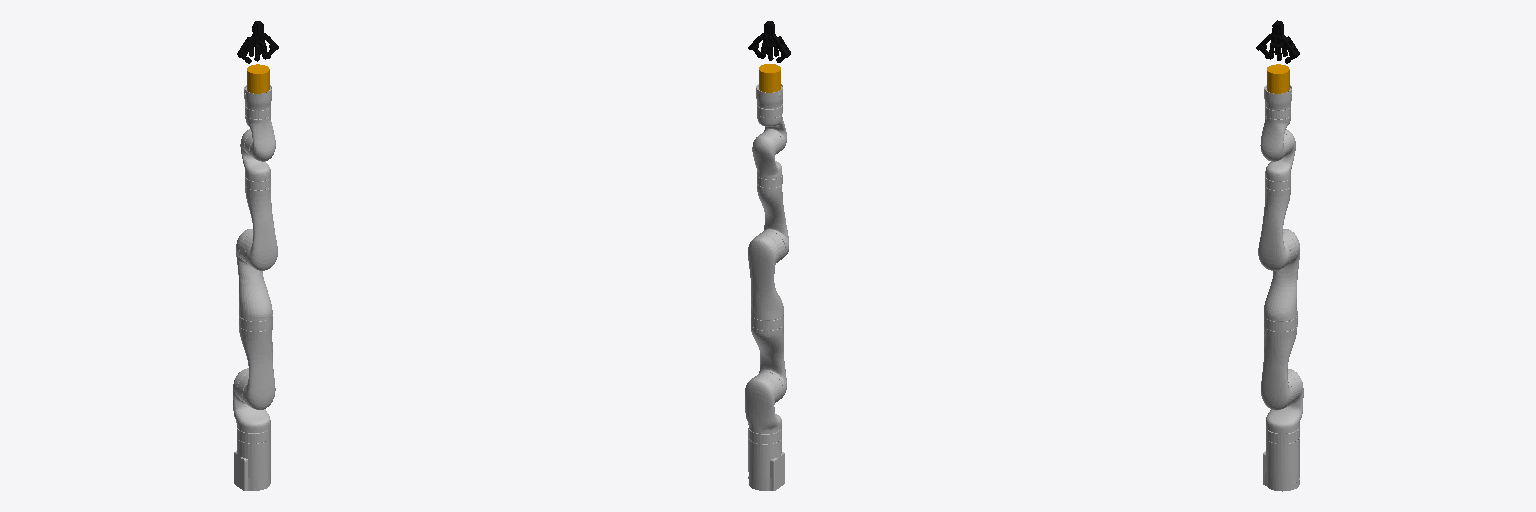
The robot description file, URDF, robot "kinova":
<?xml version='1.0' encoding='utf-8'?>
<robot name="kinova" version="1.0">
  <link name="link0">
    <inertial>
      <origin xyz="-0.000648 -0.000166 0.084487" rpy="0 0 0" />
      <mass value="1.697" />
      <inertia ixx="0.004622" ixy="0.000009" ixz="0.000060" iyy="0.004495" iyz="0.000009" izz="0.002079" />
    </inertial>
    <visual>
      <origin xyz="0 0 0" rpy="0 0 0" />
      <geometry>
        <mesh filename="../../../urdf_models/mmp_panda/meshes/base_link.obj" />
      </geometry>
      <material name="">
        <color rgba="0.75294 0.75294 0.75294 1" />
      </material>
    </visual>
    <!-- <collision>
      <origin xyz="0 0 0" rpy="0 0 0" />
      <geometry>
        <mesh filename="../../../urdf_models/mmp_panda/meshes/base_link.obj" />
      </geometry>
    </collision> -->
  </link>

  <link name="link1">
    <inertial>
      <origin xyz="-0.000023 -0.010364 -0.073360" rpy="0 0 0" />
      <mass value="1.377" />
      <inertia ixx="0.004570" ixy="0.000001" ixz="0.000002" iyy="0.004831" iyz="0.000448" izz="0.001409" />
    </inertial>
    <visual>
      <origin xyz="0 0 0" rpy="0 0 0" />
      <geometry>
        <mesh filename="../../../urdf_models/mmp_panda/meshes/Shoulder_Link.obj" />
      </geometry>
      <material name="">
        <color rgba="0.75294 0.75294 0.75294 1" />
      </material>
    </visual>
    <!-- <collision>
      <origin xyz="0 0 0" rpy="0 0 0" />
      <geometry>
        <mesh filename="../../../urdf_models/mmp_panda/meshes/Shoulder_Link.obj" />
      </geometry>
    </collision> -->
  </link>

  <link name="link2">
    <inertial>
      <origin xyz="-0.000044 -0.099580 -0.013278" rpy="0 0 0" />
      <mass value="1.1636" />
      <inertia ixx="0.011088" ixy="0.000005" ixz="0.0" iyy="0.001072" iyz="-0.000691" izz="0.011255" />
    </inertial>
    <visual>
      <origin xyz="0 0 0" rpy="0 0 0" />
      <geometry>
        <mesh filename="../../../urdf_models/mmp_panda/meshes/HalfArm1_Link.obj" />
      </geometry>
      <material name="">
        <color rgba="0.75294 0.75294 0.75294 1" />
      </material>
    </visual>
    <!-- <collision>
      <origin xyz="0 0 0" rpy="0 0 0" />
      <geometry>
        <mesh filename="../../../urdf_models/mmp_panda/meshes/HalfArm1_Link.obj" />
      </geometry>
    </collision> -->
  </link>

  <link name="link3">
    <inertial>
      <origin xyz="-0.000044 -0.006641 -0.117892" rpy="0 0 0" />
      <mass value="1.1636" />
      <inertia ixx="0.010932" ixy="0.0" ixz="-0.000007" iyy="0.011127" iyz="0.000606" izz="0.001043" />
    </inertial>
    <visual>
      <origin xyz="0 0 0" rpy="0 0 0" />
      <geometry>
        <mesh filename="../../../urdf_models/mmp_panda/meshes/HalfArm2_Link.obj" />
      </geometry>
      <material name="">
        <color rgba="0.75294 0.75294 0.75294 1" />
      </material>
    </visual>
    <!-- <collision>
      <origin xyz="0 0 0" rpy="0 0 0" />
      <geometry>
        <mesh filename="../../../urdf_models/mmp_panda/meshes/HalfArm2_Link.obj" />
      </geometry>
    </collision> -->
  </link>

  <link name="link4">
    <inertial>
      <origin xyz="-0.000018 -0.075478 -0.015006" rpy="0 0 0" />
      <mass value="0.93" />
      <inertia ixx="0.008147" ixy="-0.000001" ixz="0.0" iyy="0.000631" iyz="-0.000500" izz="0.008316" />
    </inertial>
    <visual>
      <origin xyz="0 0 0" rpy="0 0 0" />
      <geometry>
        <mesh filename="../../../urdf_models/mmp_panda/meshes/ForeArm_Link.obj" />
      </geometry>
      <material name="">
        <color rgba="0.75294 0.75294 0.75294 1" />
      </material>
    </visual>
    <collision>
      <origin xyz="0 0 0" rpy="0 0 0" />
      <geometry>
        <mesh filename="../../../urdf_models/mmp_panda/meshes/ForeArm_Link.obj" />
      </geometry>
    </collision>
  </link>

  <link name="link5">
    <inertial>
      <origin xyz="0.000001 -0.009432 -0.063883" rpy="0 0 0" />
      <mass value="0.678" />
      <inertia ixx="0.001596" ixy="0.0" ixz="0.0" iyy="0.001607" iyz="0.000256" izz="0.000399" />
    </inertial>
    <visual>
      <origin xyz="0 0 0" rpy="0 0 0" />
      <geometry>
        <mesh filename="../../../urdf_models/mmp_panda/meshes/SphericalWrist1_Link.obj" />
      </geometry>
      <material name="">
        <color rgba="0.75294 0.75294 0.75294 1" />
      </material>
    </visual>
    <collision>
      <origin xyz="0 0 0" rpy="0 0 0" />
      <geometry>
        <mesh filename="../../../urdf_models/mmp_panda/meshes/SphericalWrist1_Link.obj" />
      </geometry>
    </collision>
  </link>

  <link name="link6">
    <inertial>
      <origin xyz="0.000001 -0.045483 -0.009650" rpy="0 0 0" />
      <mass value="0.678" />
      <inertia ixx="0.001641" ixy="0.0" ixz="0.0" iyy="0.000410" iyz="-0.000278" izz="0.001641" />
    </inertial>
    <visual>
      <origin xyz="0 0 0" rpy="0 0 0" />
      <geometry>
        <mesh filename="../../../urdf_models/mmp_panda/meshes/SphericalWrist2_Link.obj" />
      </geometry>
      <material name="">
        <color rgba="0.75294 0.75294 0.75294 1" />
      </material>
    </visual>
    <collision>
      <origin xyz="0 0 0" rpy="0 0 0" />
      <geometry>
        <mesh filename="../../../urdf_models/mmp_panda/meshes/SphericalWrist2_Link.obj" />
      </geometry>
    </collision>
  </link>

  <link name="link7">
    <inertial>
      <origin xyz="-0.000093 0.000132 -0.022905" rpy="0 0 0" />
      <mass value="0.33" />
      <!-- <mass value="0.364" original mass /> -->
      <inertia ixx="0.000214" ixy="0.0" ixz="0.000001" iyy="0.000223" iyz="-0.000002" izz="0.000240" />
    </inertial>
    <visual>
      <origin xyz="0 0 0" rpy="0 0 0" />
      <geometry>
        <mesh filename="../../../urdf_models/mmp_panda/meshes/bracelet_no_vision_link.obj" />
      </geometry>
      <material name="">
        <color rgba="0.75294 0.75294 0.75294 1" />
      </material>
    </visual>
    <collision>
      <origin xyz="0 0 0" rpy="0 0 0" />
      <geometry>
        <mesh filename="../../../urdf_models/mmp_panda/meshes/bracelet_no_vision_link.obj" />
      </geometry>
    </collision>
  </link>

  <link name="end-effector">
    <inertial>
      <origin xyz="0 0 -0.005" rpy="0 0 0" />
      <mass value="0.386" />
      <inertia ixx="0" iyy="0.000202" izz="0.000179" ixy="0" ixz="0" iyz="0" />
    </inertial>
    <visual>
      <origin xyz="0 0 0" rpy="0 0 0" />
      <geometry>
        <cylinder radius="0.031" length="0.059" />
      </geometry>
    </visual>
    <!-- <collision>
    <geometry>
        <cylinder radius="0.031" length="0.059" />
      </geometry>
    </collision> -->
  </link>
  
  <!-- links below for gripper -->
  <link
    name="robotiq_85_base_link">
    <inertial>
      <origin
        xyz="0.00021987 -2.3546E-10 0.030163" rpy="0 0 0" />
      <mass value="0.30915" />
      <inertia ixx="0.00028972" ixy="-5.7879E-10" ixz="-1.8543E-06" iyy="0.00030737" iyz="1.682E-12" izz="0.00019914" />
    </inertial>
    <visual>
      <origin
        xyz="0 0 0" rpy="0 0 0" />
      <geometry>
        <mesh filename="../../../urdf_models/mmp_panda/meshes/robotiq_85_base_link_fine.obj" />
      </geometry>
      <material name="">
        <color rgba="0.1 0.1 0.1 1" />
      </material>
    </visual>
    <!-- <collision>
      <origin
        xyz="0 0 0" rpy="0 0 0" />
      <geometry>
        <mesh filename="../../../urdf_models/mmp_panda/meshes/robotiq_85_base_link_coarse.obj" />
      </geometry>
    </collision> -->
  </link>

  <link
    name="left_outer_knuckle">
    <inertial>
      <origin xyz="0.0178331863169983 3.68915177224286E-11 0.0021442477325704" rpy="0 0 0" />
      <mass value="0.00684838849434396" />
      <inertia ixx="2.66832029033166E-07" ixy="1.66142314639824E-15" ixz="1.45945633322873E-07" iyy="1.3889233257419E-06" iyz="2.82951161241588E-15" izz="1.26603336914415E-06" />
    </inertial>
    <visual>
      <origin xyz="0 0 0" rpy="0 0 0" />
      <geometry>
        <mesh
          filename="../../../urdf_models/mmp_panda/meshes/outer_knuckle_fine.obj" />
      </geometry>
      <material name="">
        <color rgba="0.1 0.1 0.1 1" />
      </material>
    </visual>
    <!-- <collision>
      <origin xyz="0 0 0" rpy="0 0 0" />
      <geometry>
        <mesh
          filename="../../../urdf_models/mmp_panda/meshes/outer_knuckle_coarse.obj" />
      </geometry>
    </collision> -->
  </link>

  <link
    name="left_outer_finger">
    <inertial>
      <origin xyz="0.00131451599174296 2.88942057994543E-15 0.0215404163180413" rpy="0 0 0" />
      <mass value="0.0273093985570947" />
      <inertia ixx="8.51629628283022E-06" ixy="2.58174336207405E-19" ixz="3.83829504344079E-07" iyy="6.9133328065108E-06" iyz="-7.58589926143789E-19" izz="2.25006832221981E-06" />
    </inertial>
    <visual>
      <origin xyz="0 0 0" rpy="0 0 0" />
      <geometry>
        <mesh filename="../../../urdf_models/mmp_panda/meshes/outer_finger_fine.obj" />
      </geometry>
      <material name="">
        <color rgba="0.1 0.1 0.1 1" />
      </material>
    </visual>
    <!-- <collision>
      <origin xyz="0 0 0" rpy="0 0 0" />
      <geometry>
        <mesh filename="../../../urdf_models/mmp_panda/meshes/outer_finger_coarse.obj" />
      </geometry>
    </collision> -->
  </link>

  <link
    name="left_inner_knuckle">
    <inertial>
      <origin xyz="0.017097546626628 -3.93808524389535E-10 0.0224918438201868" rpy="0 0 0" />
      <mass value="0.0110930853895903" />
      <inertia ixx="4.23392770691541E-06" ixy="5.748978936968E-15" ixz="1.78855677119788E-06" iyy="3.96548790524392E-06" iyz="1.05464666369669E-14" izz="3.24068002883007E-06" />
    </inertial>
    <visual>
      <origin xyz="0 0 0" rpy="0 0 0" />
      <geometry>
        <mesh filename="../../../urdf_models/mmp_panda/meshes/inner_knuckle_fine.obj" />
      </geometry>
      <material name="">
        <color rgba="0.1 0.1 0.1 1" />
      </material>
    </visual>
    <!-- <collision>
      <origin xyz="0 0 0" rpy="0 0 0" />
      <geometry>
        <mesh filename="../../../urdf_models/mmp_panda/meshes/inner_knuckle_coarse.obj" />
      </geometry>
    </collision> -->
  </link>

  <link name="left_inner_finger">
    <inertial>
      <origin xyz="0.0060275613594574 -6.29183141465421E-15 0.00669925693133241" rpy="0 0 0" />
      <mass value="0.00724255346165745" />
      <inertia ixx="1.47824274053603E-06" ixy="-3.94884463570303E-19" ixz="-3.45268847648622E-07" iyy="1.70064480838395E-06" iyz="3.5059838910097E-19" izz="4.77151336838364E-07" />
    </inertial>
    <visual>
      <origin xyz="0 0 0" rpy="0 0 0" />
      <geometry>
        <mesh filename="../../../urdf_models/mmp_panda/meshes/inner_finger_fine.obj" />
      </geometry>
      <material name="">
        <color rgba="0.1 0.1 0.1 1" />
      </material>
    </visual>
    <collision>
      <origin xyz="0 0 0" rpy="0 0 0" />
      <geometry>
        <mesh filename="../../../urdf_models/mmp_panda/meshes/inner_finger_coarse.obj" />
      </geometry>
    </collision>
  </link>

  <link
    name="right_inner_knuckle">
    <inertial>
      <origin xyz="0.0168606186773776 3.93808471820465E-10 0.0226699950793434" rpy="0 0 0" />
      <mass value="0.0110930853895903" />
      <inertia ixx="4.27134775939882E-06" ixy="-8.53568456728898E-15" ixz="1.77774229944246E-06" iyy="3.96548790524392E-06" iyz="-8.45108024914164E-15" izz="3.20325997634666E-06" />
    </inertial>
    <visual>
      <origin xyz="0 0 0" rpy="0 0 0" />
      <geometry>
        <mesh filename="../../../urdf_models/mmp_panda/meshes/inner_knuckle_fine.obj" />
      </geometry>
      <material name="">
        <color rgba="0.1 0.1 0.1 1" />
      </material>
    </visual>
    <!-- <collision>
      <origin xyz="0 0 0" rpy="0 0 0" />
      <geometry>
        <mesh filename="../../../urdf_models/mmp_panda/meshes/inner_knuckle_coarse.obj" />
      </geometry>
    </collision> -->
  </link>

  <link name="right_inner_finger">
    <inertial>
      <origin xyz="0.00602756228812038 -6.47284509480176E-15 0.00669925609578108" rpy="0 0 0" />
      <mass value="0.00724255346165744" />
      <inertia ixx="1.47824283625957E-06" ixy="-3.95952064019123E-19" ixz="-3.45268708875543E-07" iyy="1.70064480838394E-06" iyz="3.55286507960029E-19" izz="4.77151241114822E-07" />
    </inertial>
    <visual>
      <origin xyz="0 0 0" rpy="0 0 0" />
      <geometry>
        <mesh filename="../../../urdf_models/mmp_panda/meshes/inner_finger_fine.obj" />
      </geometry>
      <material name="">
        <color rgba="0.1 0.1 0.1 1" />
      </material>
    </visual>
    <collision>
      <origin xyz="0 0 0" rpy="0 0 0" />
      <geometry>
        <mesh filename="../../../urdf_models/mmp_panda/meshes/inner_finger_coarse.obj" />
      </geometry>
    </collision>
  </link>

  <link name="right_outer_knuckle">
    <inertial>
      <origin xyz="0.0178097074051638 3.60493211424024E-11 0.00233123458346721" rpy="0 0 0" />
      <mass value="0.00684838849401352" />
      <inertia ixx="2.70004361573169E-07" ixy="1.59579467624491E-15" ixz="1.56396493788199E-07" iyy="1.38892332558312E-06" iyz="2.82357800318817E-15" izz="1.26286103637978E-06" />
    </inertial>
    <visual>
      <origin xyz="0 0 0" rpy="0 0 0" />
      <geometry>
        <mesh filename="../../../urdf_models/mmp_panda/meshes/outer_knuckle_fine.obj" />
      </geometry>
      <material name="">
        <color rgba="0.1 0.1 0.1 1" />
      </material>
    </visual>
    <!-- <collision>
      <origin xyz="0 0 0" rpy="0 0 0" />
      <geometry>
        <mesh filename="../../../urdf_models/mmp_panda/meshes/outer_knuckle_coarse.obj" />
      </geometry>
    </collision> -->
  </link>

  <link name="right_outer_finger">
    <inertial>
      <origin xyz="0.00108844269639009 -2.611488350845E-15 0.0215530225245502" rpy="0 0 0" />
      <mass value="0.0273093985570947" />
      <inertia ixx="8.52366028592721E-06" ixy="3.41683380899422E-19" ixz="3.18003675694284E-07" iyy="6.91333280651081E-06" iyz="7.37726682706417E-19" izz="2.24270431912283E-06" />
    </inertial>
    <visual>
      <origin xyz="0 0 0" rpy="0 0 0" />
      <geometry>
        <mesh filename="../../../urdf_models/mmp_panda/meshes/outer_finger_fine.obj" />
      </geometry>
      <material name="">
        <color rgba="0.1 0.1 0.1 1" />
      </material>
    </visual>
    <!-- <collision>
      <origin xyz="0 0 0" rpy="0 0 0" />
      <geometry>
        <mesh filename="../../../urdf_models/mmp_panda/meshes/outer_finger_coarse.obj" />
      </geometry>
    </collision> -->
  </link>

  <joint name="Actuator1" type="revolute">
    <origin xyz="0 0 0.15643" rpy="3.1416 2.7629E-18 -4.9305E-36" />
    <parent link="link0" />
    <child link="link1" />
    <axis xyz="0 0 1" />
    <limit effort="39" lower="-20.8973" upper="20.8973" velocity="0.8727" />
  </joint>
  <joint name="Actuator2" type="revolute">
    <origin xyz="0 0.005375 -0.12838" rpy="1.5708 2.1343E-17 -1.1102E-16" />
    <parent link="link1" />
    <child link="link2" />
    <axis xyz="0 0 1" />
    <limit effort="39" lower="-2.41" upper="2.41" velocity="0.8727" />
  </joint>
  <joint name="Actuator3" type="revolute">
    <origin xyz="0 -0.21038 -0.006375" rpy="-1.5708 1.2326E-32 -2.9122E-16" />
    <parent link="link2" />
    <child link="link3" />
    <axis xyz="0 0 1" />
    <limit effort="39" lower="-20.8973" upper="20.8973" velocity="0.8727" />
  </joint>
  <joint name="Actuator4" type="revolute">
    <origin xyz="0 0.006375 -0.21038" rpy="1.5708 -6.6954E-17 -1.6653E-16" />
    <parent link="link3" />
    <child link="link4" />
    <axis xyz="0 0 1" />
    <limit lower="-2.66" upper="2.66" effort="39" velocity="0.8727" />
  </joint>
  <joint name="Actuator5" type="revolute">
    <origin xyz="0 -0.20843 -0.006375" rpy="-1.5708 2.2204E-16 -6.373E-17" />
    <parent link="link4" />
    <child link="link5" />
    <axis xyz="0 0 1" />
    <limit effort="9" lower="-20.8973" upper="20.8973" velocity="0.8727" />
  </joint>
  <joint name="Actuator6" type="revolute">
    <origin xyz="0 0.00017505 -0.10593" rpy="1.5708 9.2076E-28 -8.2157E-15" />
    <parent link="link5" />
    <child link="link6" />
    <axis xyz="0 0 1" />
    <limit lower="-2.23" upper="2.23" effort="9" velocity="0.8727" />
  </joint>
  <joint name="Actuator7" type="revolute">
    <origin xyz="0 -0.10593 -0.00017505" rpy="-1.5708 -5.5511E-17 9.6396E-17" />
    <parent link="link6" />
    <child link="link7" />
    <axis xyz="0 0 1" />
    <limit effort="9" lower="-20.8973" upper="20.8973" velocity="0.8727" />
  </joint>
  <joint name="joint_ee" type="fixed">
    <origin xyz="0 0 -0.091" />
    <parent link="link7" />
    <child link="end-effector" />
  </joint>
  <joint name="force_sensor_end" type="fixed">
    <origin xyz="0 0 0" rpy="-1.5708 0 0"/>
    <parent link="end-effector"/>
    <child link="robotiq_85_base_link"/>
  </joint>
  <!--joints below for gripper-->
  <!--joints below for gripper set to fixed for now-->
  <joint name="left_outer_knuckle_joint" type="fixed" >
    <origin xyz="0.0306011444260539 0.0627920162695395 0 " rpy="0 0 0.733" />
    <parent link="robotiq_85_base_link" />
    <child link="left_outer_knuckle" />
    <axis xyz="0 0 1" />
    <!-- <limit lower="0" upper="0.725" velocity="2.0" effort="1000" /> -->
  </joint>
  <joint
    name="left_outer_finger_joint" type="fixed">
    <origin xyz="0.0316910442266543 0 -0.00193396375724605" rpy="0 0 0" />
    <parent link="left_outer_knuckle" />
    <child link="left_outer_finger" />
  </joint>
  <!--joints below for gripper set to fixed for now-->
  <joint name="left_inner_knuckle_joint" type="fixed">
    <origin xyz="0.0127000000001501 0.0693074999999639 0" rpy="0 0 0.730" />
    <parent link="robotiq_85_base_link" />
    <child link="left_inner_knuckle" />
    <axis xyz="0 0 1" />
    <!-- <limit lower="0" upper="0.8757" velocity="2.0" effort="1000" /> -->
  </joint>
  <!--joints below for gripper set to fixed for now-->
  <joint
    name="left_inner_finger_joint" type="fixed">
    <origin xyz="0.034585310861294 0.0454970193817975 0" rpy="0 0 -0.739" />
    <parent link="left_inner_knuckle" />
    <child link="left_inner_finger" />
    <axis xyz="0 -1 0" />
    <!-- <limit lower="0" upper="0.8757" velocity="2.0" effort="1000" /> -->
    <mimic joint="finger_joint" multiplier="-1" offset="0" />
  </joint>
  <!--joints below for gripper set to fixed for now-->
  <joint name="right_inner_knuckle_joint" type="fixed">
    <origin xyz="-0.0126999999998499 0.0693075000000361 0" rpy="0 3.14159265358979 -0.730" />
    <parent link="robotiq_85_base_link" />
    <child link="right_inner_knuckle" />
    <axis xyz="0 1 0" />
    <!-- <limit lower="0" upper="0.8757" velocity="2.0" effort="1000" /> -->
    <mimic joint="finger_joint" multiplier="-1" offset="0" />
  </joint>
  <!--joints below for gripper set to fixed for now-->
  <joint name="right_inner_finger_joint" type="fixed">
    <origin xyz="0.0341060475457406 0.0458573878541688 0" rpy="0 0 -0.739" />
    <parent link="right_inner_knuckle" />
    <child link="right_inner_finger" />
    <axis xyz="0 1 0" />
    <!-- <limit lower="0" upper="0.8757" velocity="2.0" effort="1000" /> -->
    <mimic joint="finger_joint" multiplier="1" offset="0" />
  </joint>
  <!--joints below for gripper set to fixed for now-->
  <joint name="right_outer_knuckle_joint" type="fixed">
    <origin xyz="-0.0306011444258893 0.0627920162695395 0" rpy="0 3.14159265358979 -0.733" />
    <parent link="robotiq_85_base_link" />
    <child link="right_outer_knuckle" />
    <axis xyz="0 1 0" />
    <!-- <limit lower="0" upper="0.8757" velocity="2.0" effort="1000" /> -->
    <!-- <mimic joint="finger_joint" multiplier="-1" offset="0" /> -->
  </joint>
  <joint name="right_outer_finger_joint" type="fixed">
    <origin xyz="0.0317095909367246 0 -0.0016013564954687" rpy="0 0 0" />
    <parent link="right_outer_knuckle" />
    <child link="right_outer_finger" />
    <axis xyz="0 1 0" />
  </joint>

</robot>

--- What the picture shows (computed from the rendered views, not written in the file) ---
3 views of the same robot in one strip: view 1: azimuth 30°, elevation 25°; view 2: azimuth 150°, elevation 25°; view 3: azimuth 330°, elevation 25° (orthographic).
Robot: kinova — 18 links, 17 joints (7 revolute, 10 fixed); root link link0; default pose: all joints at 0.
Links seen in each view (by area): view 1: link2, link4, link0, link3, link1, link6, link5, end-effector; view 2: link3, link0, link1, link2, link4, link5, link6, end-effector; view 3: link2, link4, link0, link3, link1, link6, link5, end-effector.
Boxes of the visible links, bbox=[...] form: link2: bbox=[239, 315, 275, 409]; link4: bbox=[245, 177, 277, 270]; link0: bbox=[234, 427, 270, 490]; link3: bbox=[236, 229, 272, 321]; link1: bbox=[233, 368, 270, 432]; link6: bbox=[245, 106, 275, 161]; link5: bbox=[240, 129, 270, 181]; end-effector: bbox=[247, 64, 269, 93]; link3: bbox=[748, 231, 785, 320]; link0: bbox=[748, 428, 784, 490]; link1: bbox=[745, 372, 782, 433]; link2: bbox=[751, 315, 786, 398]; link4: bbox=[757, 175, 788, 259]; link5: bbox=[752, 130, 782, 179]; link6: bbox=[757, 104, 786, 150]; end-effector: bbox=[759, 64, 780, 92]; link2: bbox=[1261, 315, 1297, 410]; link4: bbox=[1258, 177, 1290, 270]; link0: bbox=[1263, 428, 1299, 491]; link3: bbox=[1264, 229, 1299, 321]; link1: bbox=[1266, 369, 1303, 433]; link6: bbox=[1260, 106, 1290, 161]; link5: bbox=[1265, 129, 1295, 181]; end-effector: bbox=[1267, 64, 1289, 93].
Bounding box of the posed robot: 0.1229 × 0.1267 × 1.39 m (x, y, z).
16 mesh visuals loaded from 13 distinct referenced files (12 OBJ); not drawn: 1 (reference not matched to a file when rendering).
